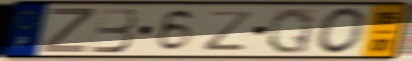6: (154, 8, 197, 53)
B: (88, 6, 139, 55)
O: (315, 6, 370, 56)
Q: (265, 6, 316, 56)
Z: (38, 7, 96, 54), (203, 9, 258, 52)
